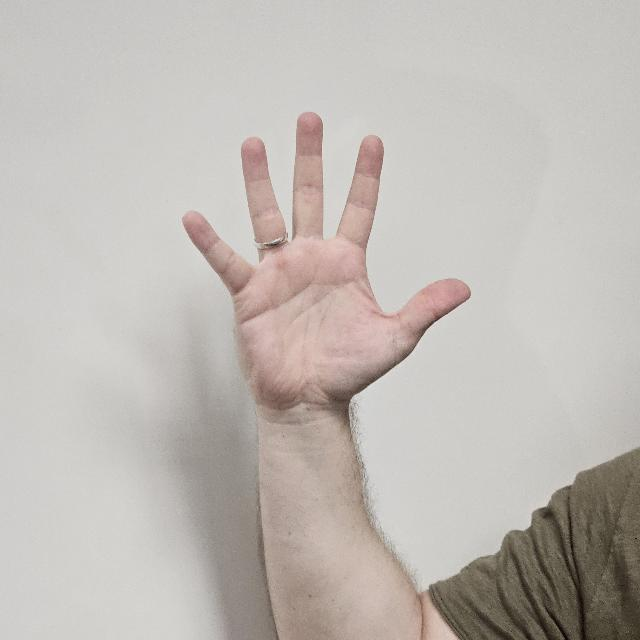X: (176, 110, 472, 436)
